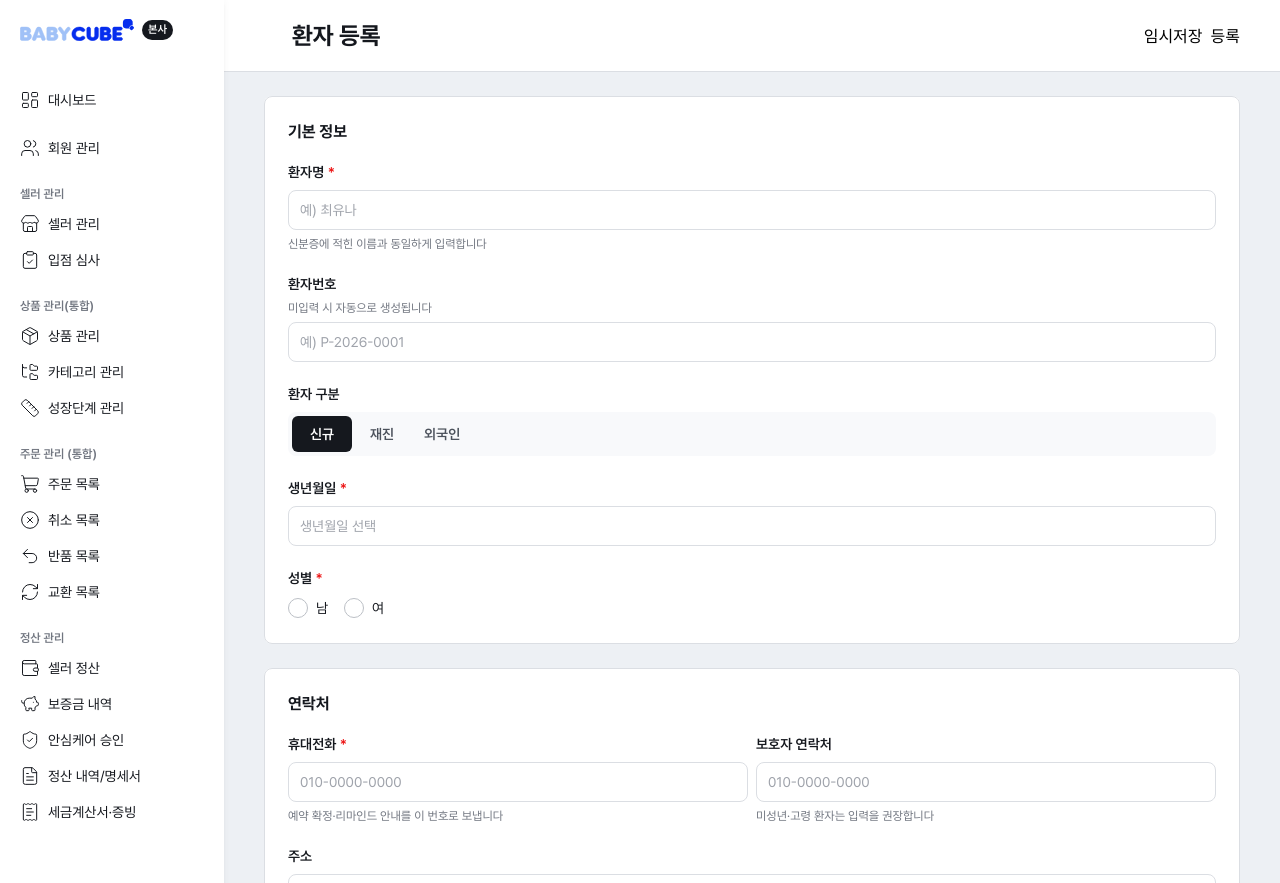
Test case: PatientFormPage › 휴대전화 표시 포맷 › 숫자만 입력해도 하이픈이 붙는다
The image size is (1280, 883).
Type "01033178064" into the field labelled "휴대전화" at (518, 782), box left=300, top=770, right=736, bottom=794
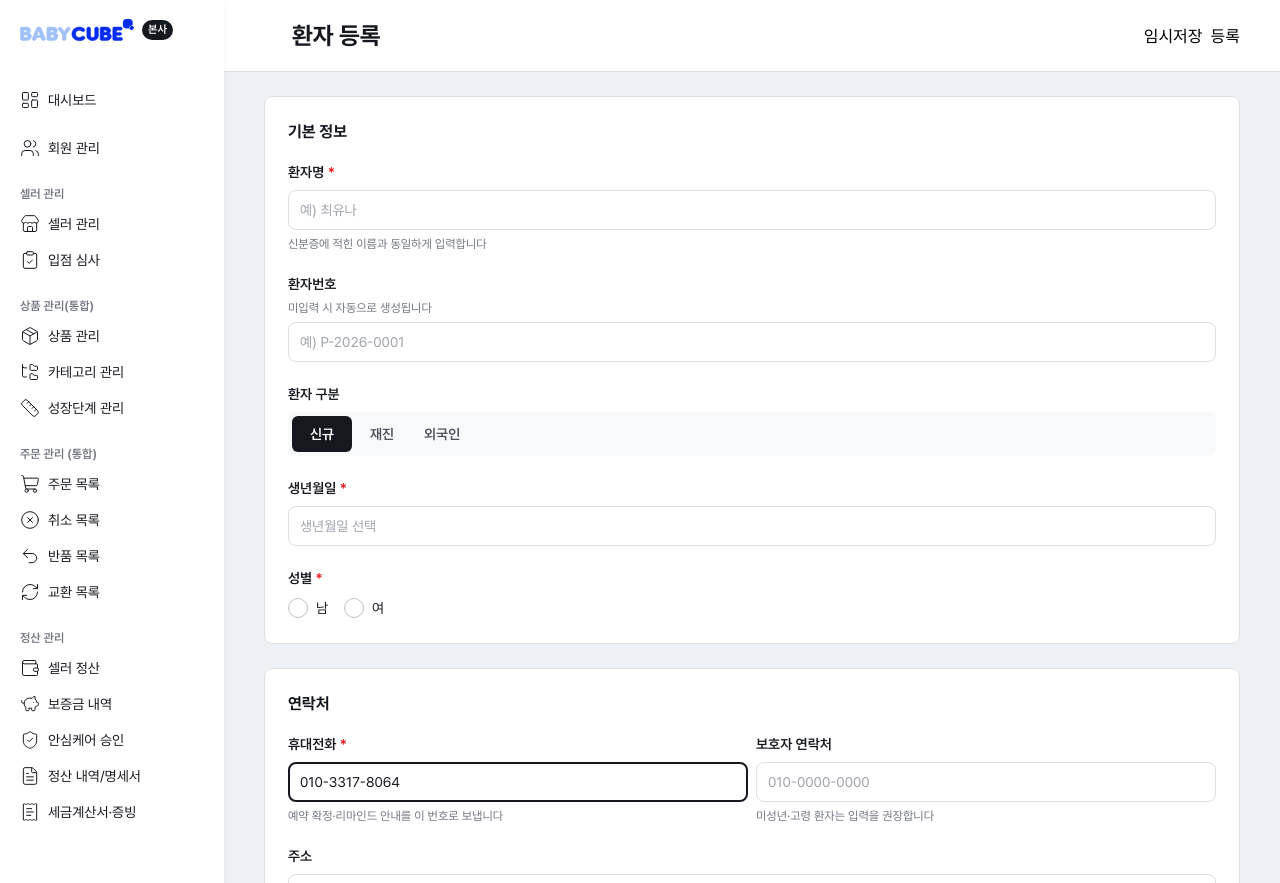
Expected: the field labelled "휴대전화" holds "010-3317-8064", left=300, top=770, right=736, bottom=794
